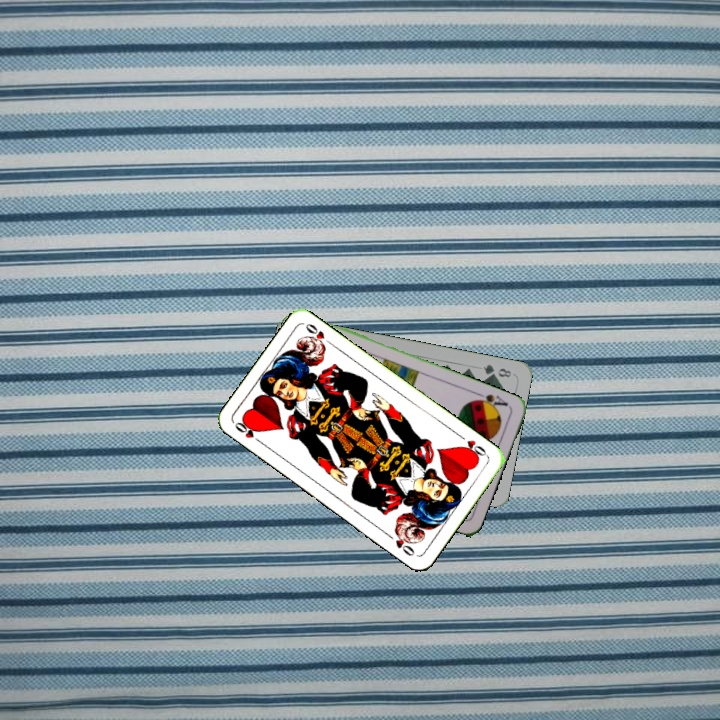G8: (479, 360, 514, 380)
HO: (455, 430, 490, 462), (231, 417, 266, 447)
SA: (470, 389, 511, 413)
